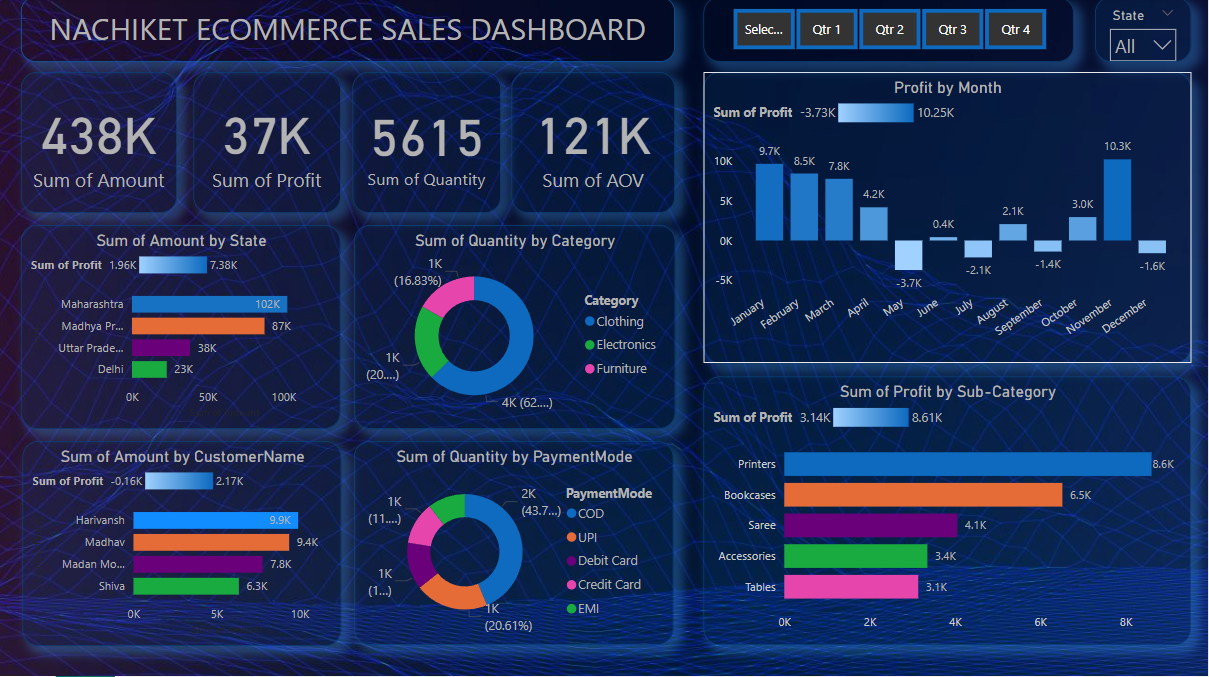

This screenshot's page, from the dashboard's own definition file:
{"tool":"powerbi","page":{"name":"Page 1","canvas":[1280,720],"ordinal":0},"visuals":[{"type":"columnChart","title":"Profit by Month","fields":{"Y":["Details.Profit"],"Category":["Orders.Order Date.Variation.Date Hierarchy.Month"]},"box":[746,79.5,516.9,308.6],"z":0},{"type":"textbox","box":[22.3,0,693.5,68.4],"z":1000},{"type":"barChart","fields":{"Y":["Details.Profit"],"Category":["Details.Sub-Category"]},"box":[746,402.4,516.9,284.7],"z":1001},{"type":"donutChart","fields":{"Category":["Details.Category"],"Y":["Details.Quantity"]},"box":[375.4,241.8,340.4,216.3],"z":1002},{"type":"donutChart","fields":{"Y":["Details.Quantity"],"Category":["Details.PaymentMode"]},"box":[375.4,470.8,338.8,216.3],"z":1003},{"type":"card","fields":{"Values":["Details.Amount"]},"box":[22.3,79.5,165.4,149.5],"z":1004},{"type":"card","fields":{"Values":["Details.Profit"]},"box":[205.2,79.5,155.9,149.5],"z":1005},{"type":"card","fields":{"Values":["Details.Quantity"]},"box":[373.8,79.5,157.5,149.5],"z":1006},{"type":"card","fields":{"Values":["Details.AOV"]},"box":[542.4,79.5,173.4,149.5],"z":1007},{"type":"barChart","fields":{"Category":["Orders.State"],"Y":["Details.Amount"]},"box":[22.3,241.8,338.8,216.3],"z":1008},{"type":"barChart","fields":{"Y":["Details.Amount"],"Category":["Orders.CustomerName"]},"box":[24.6,470.6,338.3,217.3],"z":1009},{"type":"slicer","fields":{"Values":["Orders.Order Date.Variation.Date Hierarchy.Quarter"]},"box":[746,0,392.9,68.4],"z":1010},{"type":"slicer","fields":{"Values":["Orders.State"]},"box":[1161.1,0,101.8,68.4],"z":1011}]}

Visuals, with their boxes in screenshot pixels (x1, y1, x2, y2), scaled from the page's 1280x720 canvas onto the 1209x677 screenshot:
"Profit by Month" columnChart: Rect(705, 75, 1193, 365)
textbox: Rect(21, 0, 676, 64)
barChart - Details.Profit x Details.Sub-Category: Rect(705, 378, 1193, 646)
donutChart - Details.Category x Details.Quantity: Rect(355, 227, 676, 431)
donutChart - Details.Quantity x Details.PaymentMode: Rect(355, 443, 675, 646)
card - Details.Amount: Rect(21, 75, 177, 215)
card - Details.Profit: Rect(194, 75, 341, 215)
card - Details.Quantity: Rect(353, 75, 502, 215)
card - Details.AOV: Rect(512, 75, 676, 215)
barChart - Orders.State x Details.Amount: Rect(21, 227, 341, 431)
barChart - Details.Amount x Orders.CustomerName: Rect(23, 442, 343, 647)
slicer - Orders.Order Date.Variation.Date Hierarchy.Quarter: Rect(705, 0, 1076, 64)
slicer - Orders.State: Rect(1097, 0, 1193, 64)
